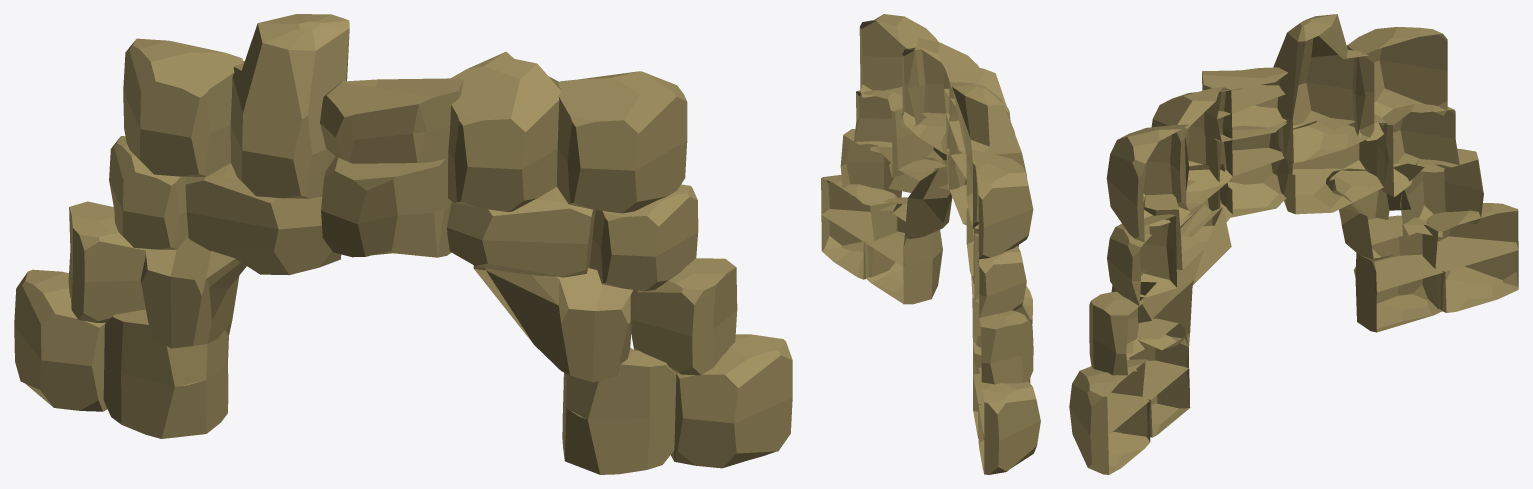
The model's file is rockwall.fbx.
The picture shows the model from 3 angles, left to right: view 1: azimuth 30°, elevation 25°; view 2: azimuth 150°, elevation 25°; view 3: azimuth 270°, elevation 25°; orthographic projection. The views are drawn at different scales.
Parts seen in each view (by area): view 1: Cube.006; view 2: Cube.006; view 3: Cube.006.
Boxes of the visible parts, x1,y1,x2,y2 form: Cube.006: (14,14,792,474); Cube.006: (821,14,1040,474); Cube.006: (1069,14,1518,474).
Bounding box in the file's own units: 1213 × 921 × 1144.
